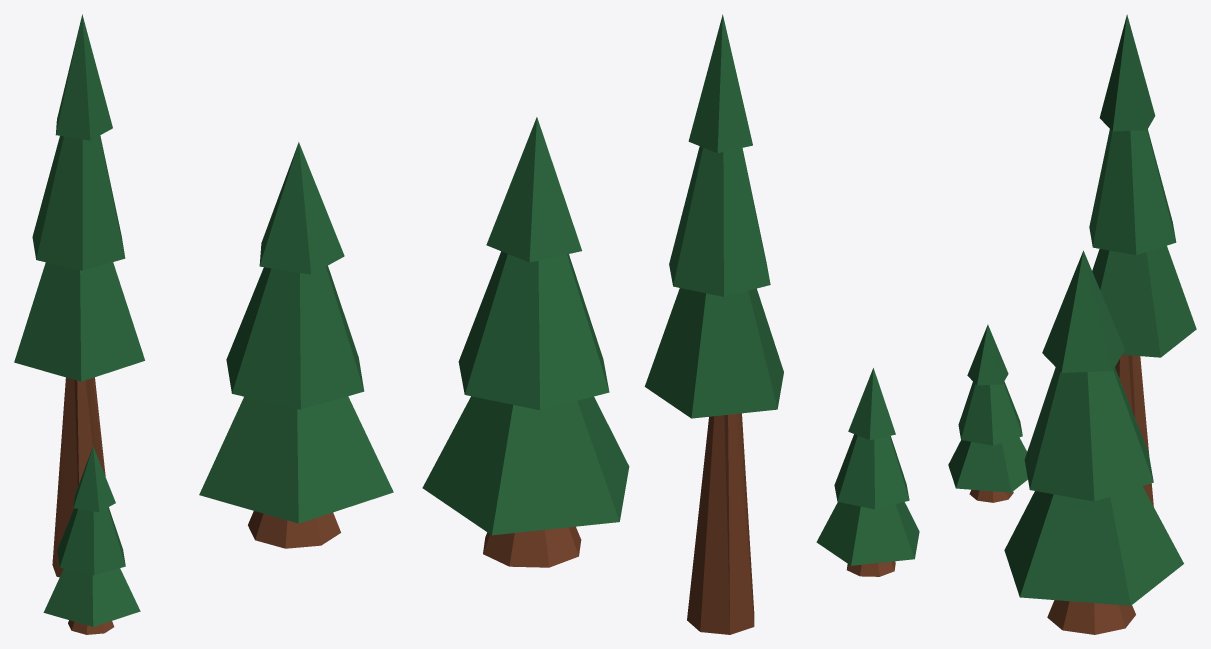
Rendered from pineTreeModelWithMaterial.glb.
3 views of the same model, side by side, from view 1: azimuth 30°, elevation 25°; view 2: azimuth 150°, elevation 25°; view 3: azimuth 270°, elevation 25° (orthographic). The views are drawn at different scales.
Parts seen in each view (by area): view 1: pine_tree; view 2: pine_tree; view 3: pine_tree.
Boxes of the visible parts, x1,y1,x2,y2 form: pine_tree: (14,14,393,634); pine_tree: (422,14,919,634); pine_tree: (948,14,1196,634).
Size of the model in its own units: 25.25 by 35.24 by 15.27.
